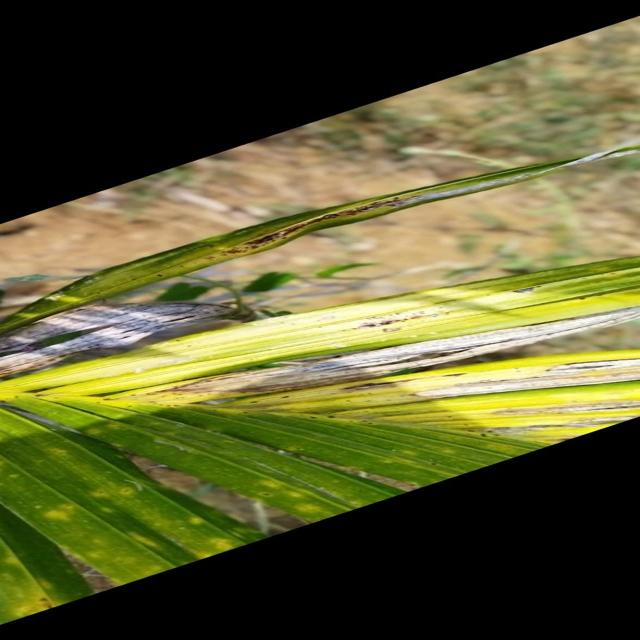Yellow_Leaf_Disease: (123, 222, 557, 433)
